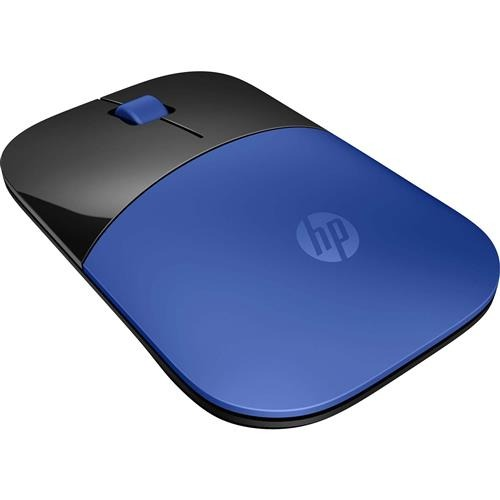mouse: (2, 66, 498, 468)
